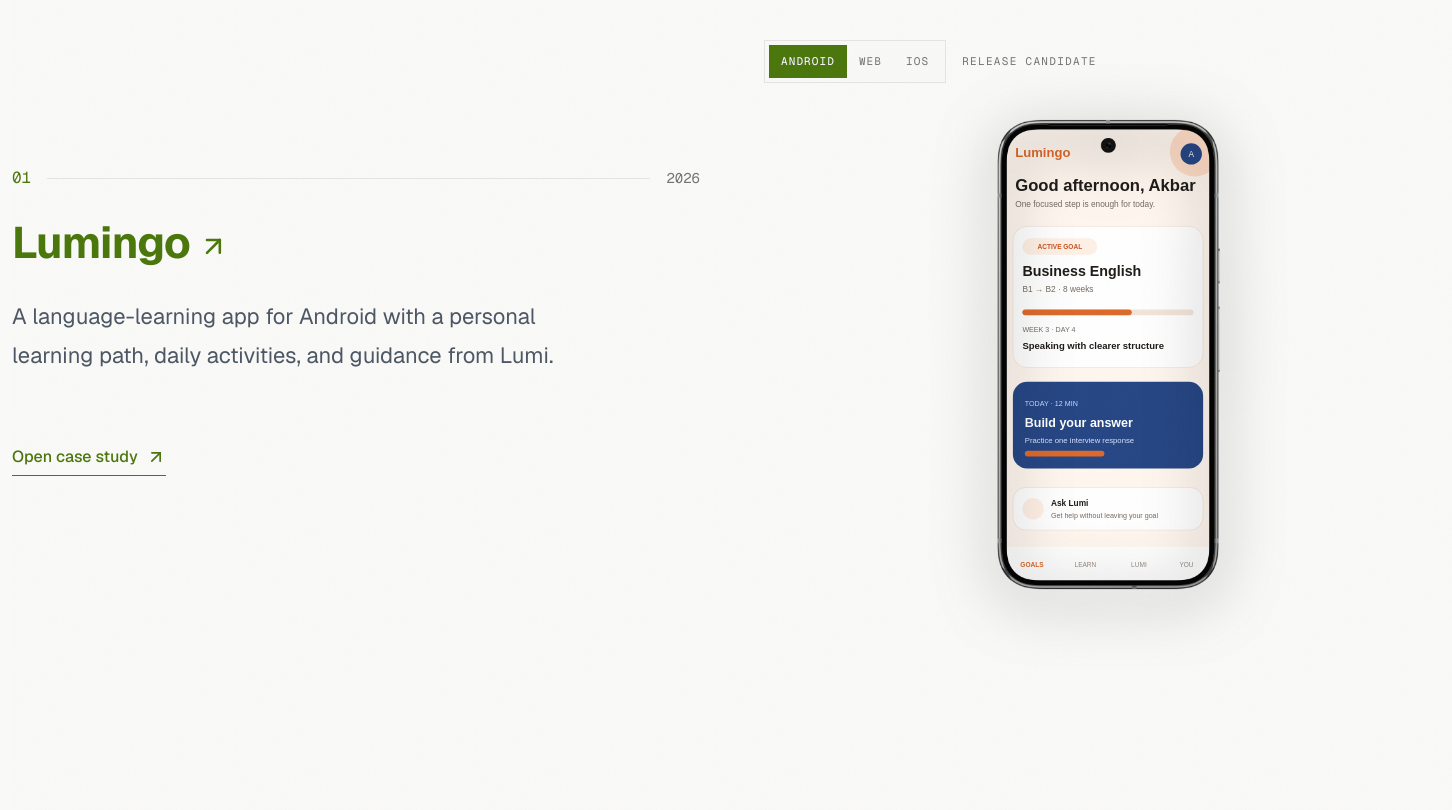
Scenario: EditorialCard platform content › changes the complete Lumingo card and destination when Web is selected
Expected: the text "language-learning app for Android" is shown, [12, 302, 553, 369]
Click the tab with aria-label "Web — Public beta" at (870, 61), box [847, 45, 894, 78]
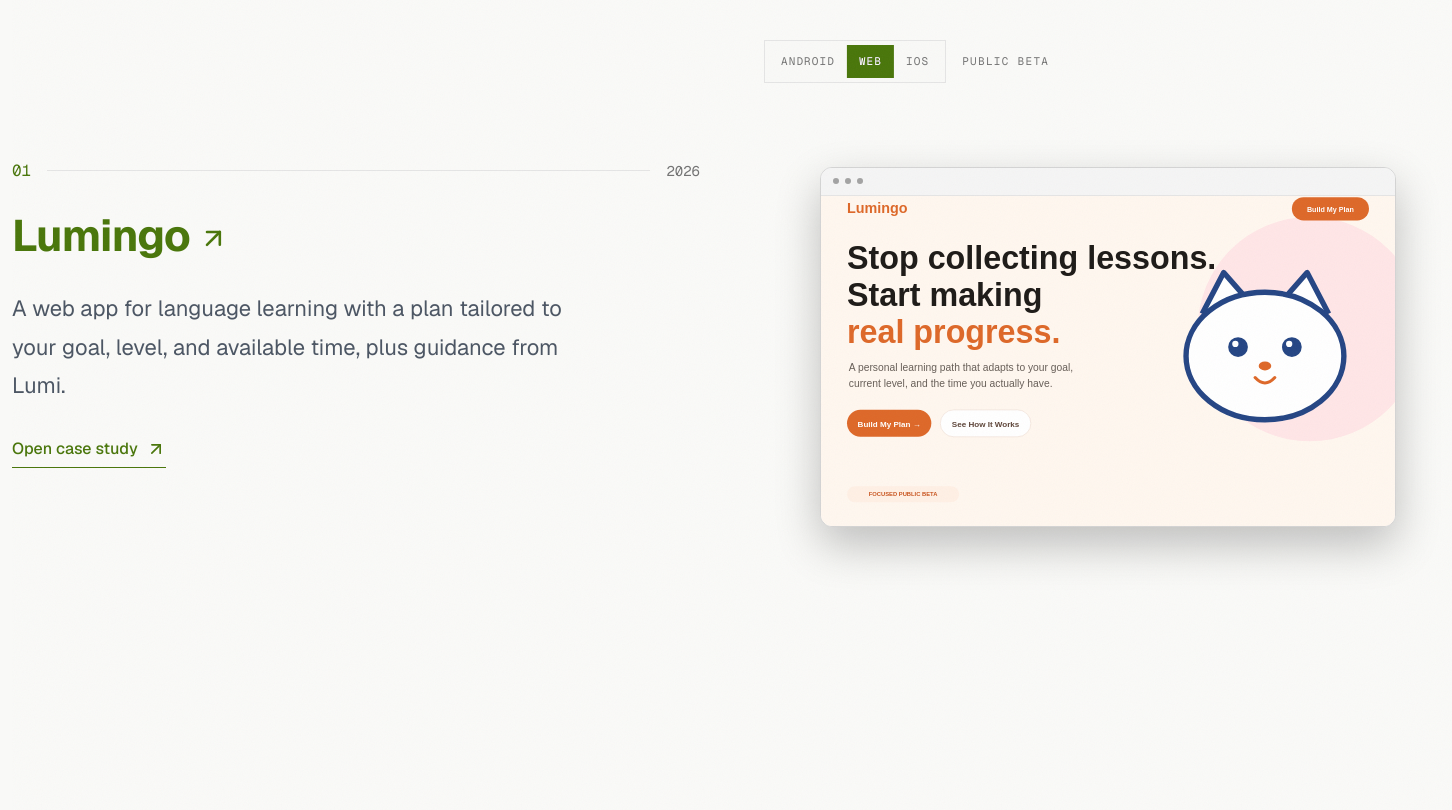
Expected: the number of links is 3, [12, 211, 229, 261]; [12, 437, 166, 468]; [820, 166, 1396, 526]
Now the text "web app for language learning" is shown, box [12, 294, 562, 399]
Now the text "language-learning app for Android" is gone
